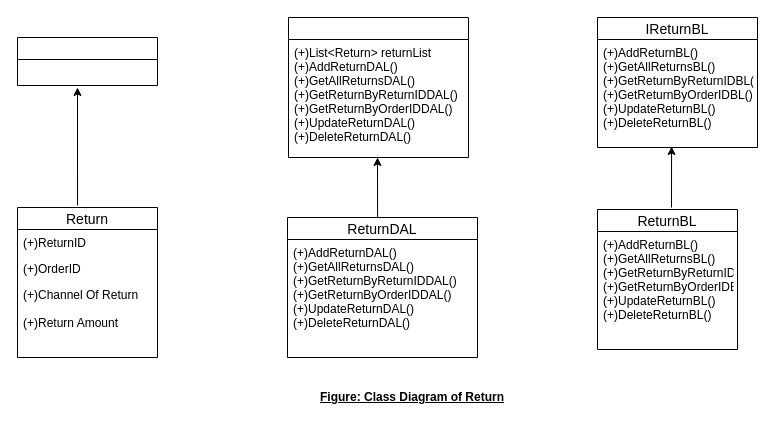
Image size: 775x425. Some labels were removed from this diagram. The shapes that lost their labels are listed below. From the top down, each one's box as (x1, y1, x2, y2) in pixels, then its label:
(16, 36, 158, 86): IReturn
(288, 16, 468, 158): ReturnDALBase
